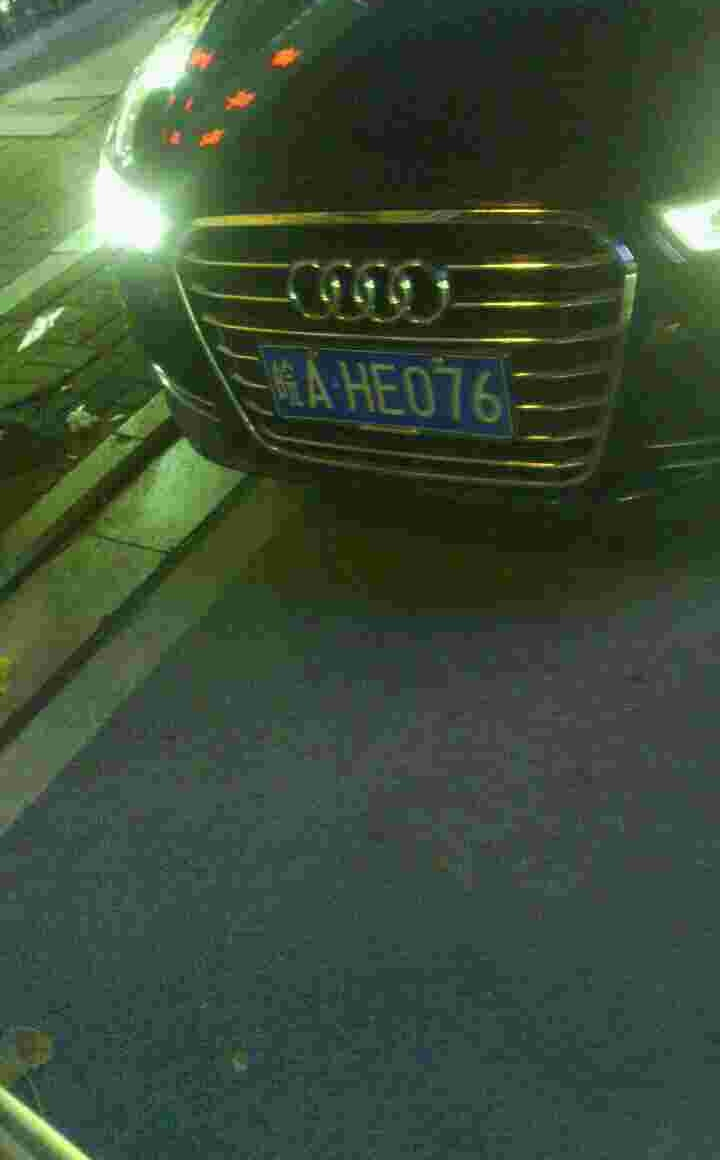license_plate: (257, 349, 539, 435)
